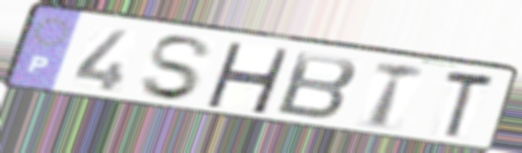4: (70, 27, 132, 93)
B: (272, 49, 362, 123)
H: (202, 39, 293, 116)
S: (137, 33, 216, 103)
T: (439, 68, 498, 142), (369, 59, 428, 132)
